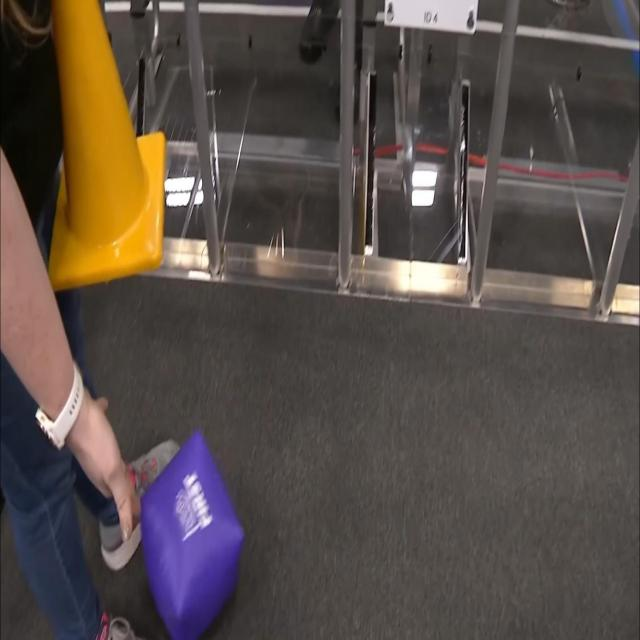frc_cone: (36, 0, 166, 290)
frc_cube: (133, 428, 248, 640)
